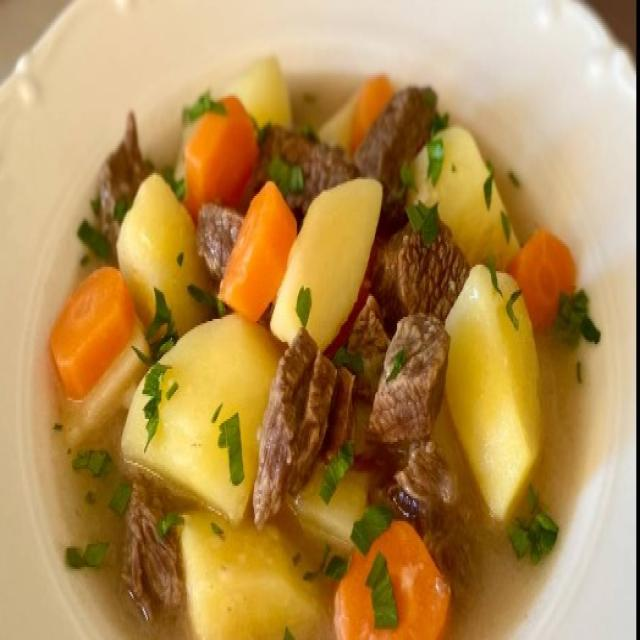ana_yemek: (26, 61, 603, 640)
